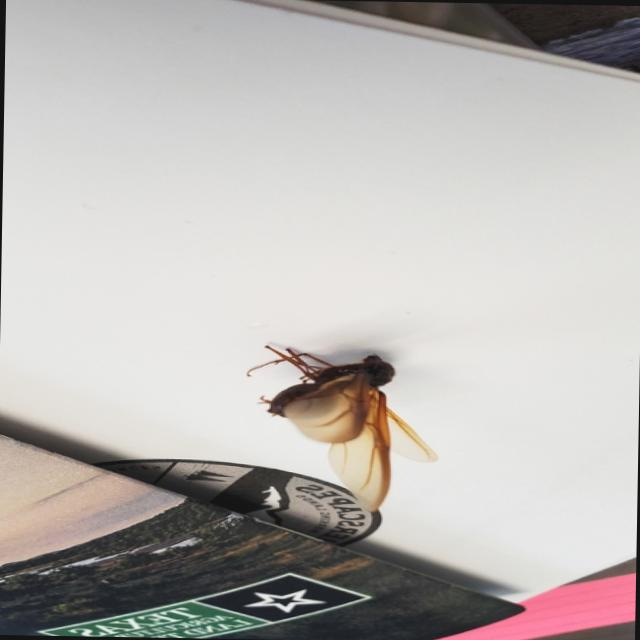Dead-Male-Alate: (244, 345, 441, 513)
